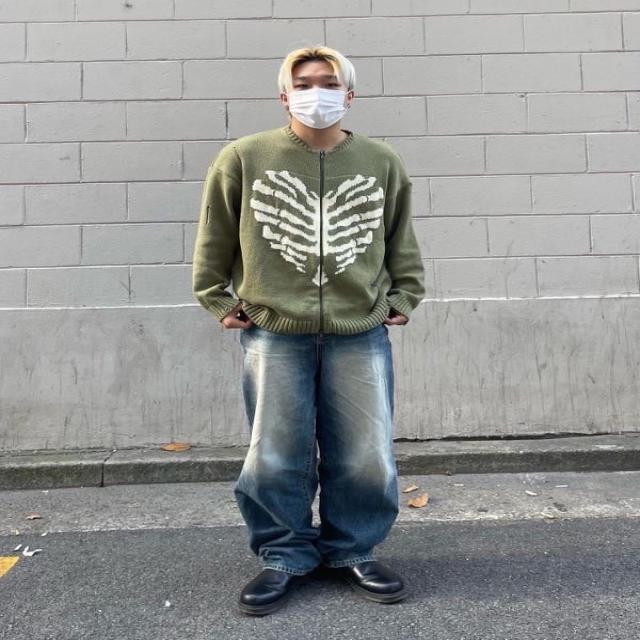cardigan: (192, 122, 428, 335)
denimpants: (235, 314, 402, 574)
